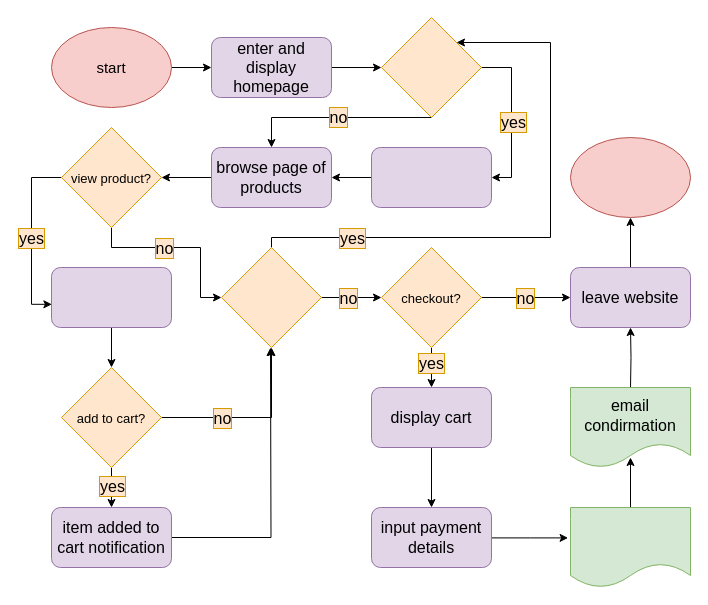
Image size: 708x605. Some labels were removed from this diagram. Here are the shapes that lost their labels. From the top down, the box of each, then its label:
(380, 16, 482, 118): search for a product?
(370, 146, 492, 208): display search results
(570, 136, 690, 218): end
(50, 266, 172, 328): display product's page
(220, 246, 322, 348): continue shopping?
(570, 506, 690, 588): order confirmation
